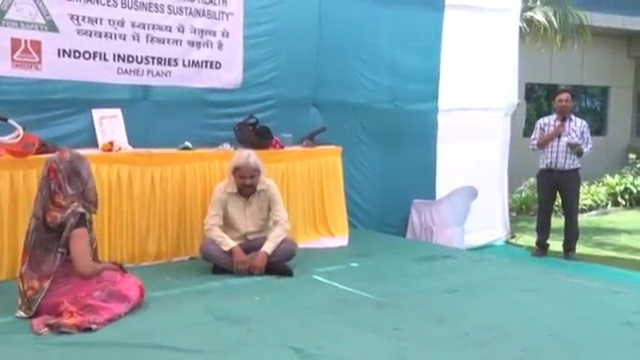helmet_off: (42, 149, 98, 212), (229, 153, 260, 197), (551, 87, 573, 116)
person: (13, 147, 146, 338), (198, 149, 298, 281), (527, 89, 593, 260)
